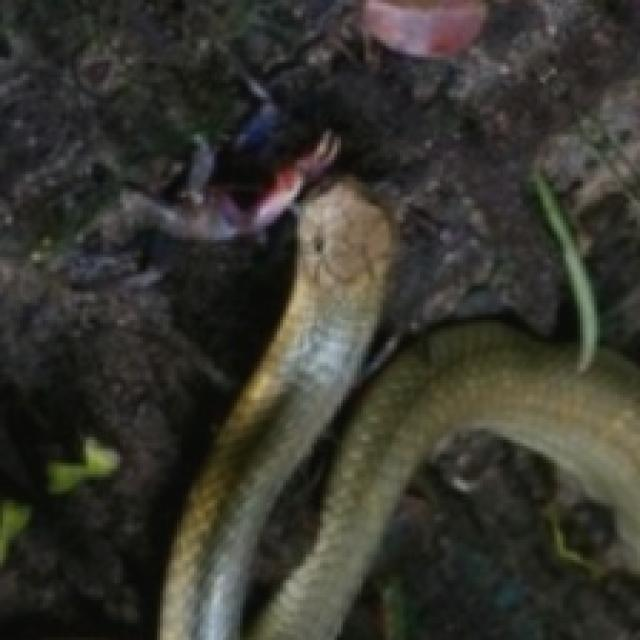king cobra: (243, 320, 637, 637), (160, 177, 391, 637)
